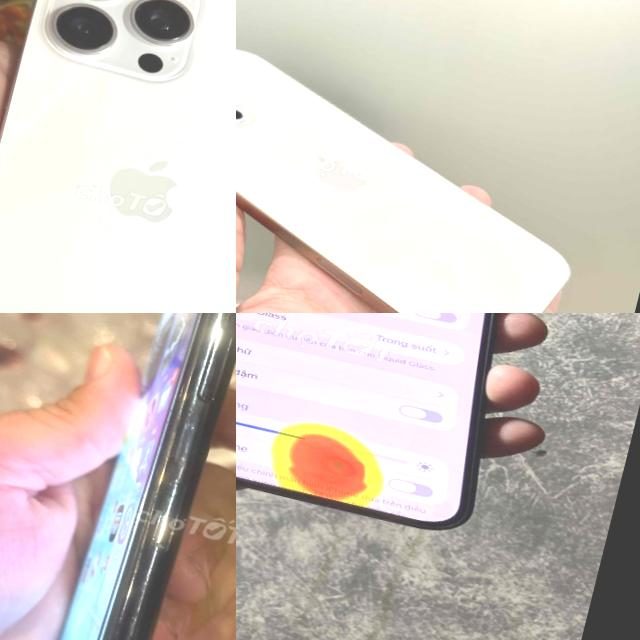gen_11: (57, 313, 236, 640)
gen_12_13: (236, 313, 566, 545)
gen_16: (236, 50, 568, 313), (0, 0, 236, 313)
scratch: (108, 466, 208, 640), (157, 390, 220, 473), (219, 330, 236, 357)
screen_defect: (252, 387, 398, 522)
